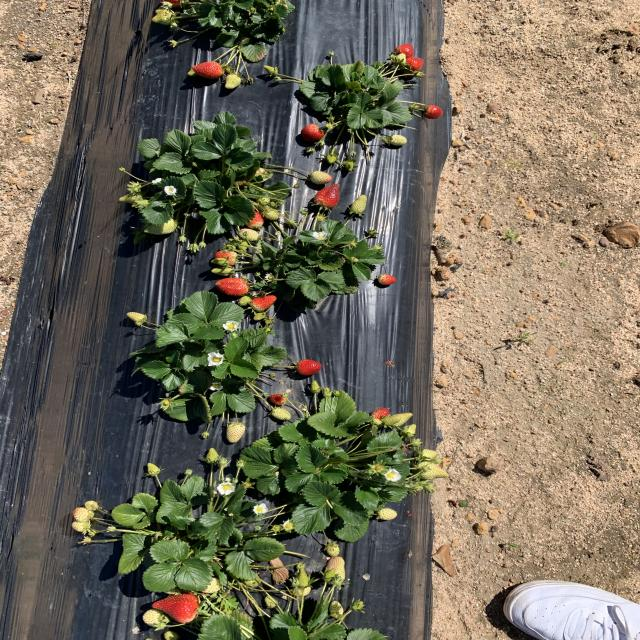unripe: (152, 592, 200, 623), (216, 276, 250, 298), (314, 183, 342, 209), (192, 61, 223, 79), (295, 358, 322, 376), (300, 124, 326, 142), (243, 208, 264, 228), (252, 295, 278, 311), (214, 251, 240, 265), (399, 58, 425, 71), (395, 43, 416, 58), (422, 105, 443, 120), (373, 407, 393, 421), (269, 393, 288, 405), (378, 275, 396, 284)
